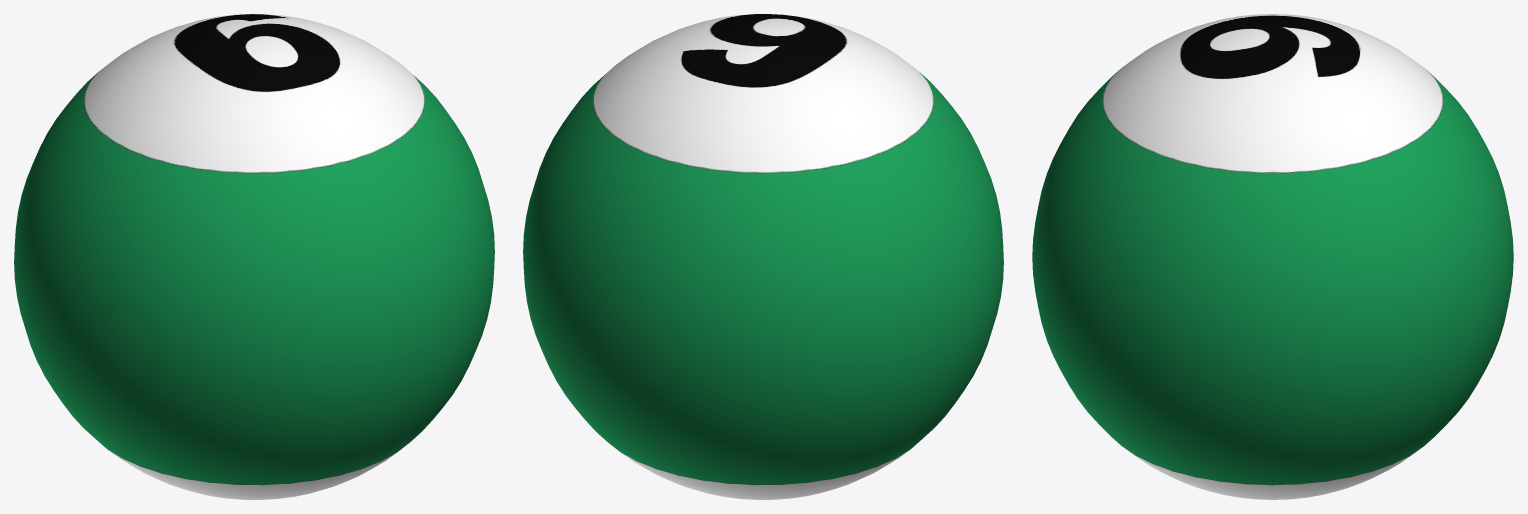
3 views of the same model, side by side, from view 1: azimuth 30°, elevation 25°; view 2: azimuth 150°, elevation 25°; view 3: azimuth 270°, elevation 25° (orthographic).
Parts seen in each view (by area): view 1: 6-six; view 2: 6-six; view 3: 6-six.
Boxes of the visible parts, x1=… form: 6-six: x1=14, y1=14, x2=494, y2=499; 6-six: x1=523, y1=14, x2=1003, y2=499; 6-six: x1=1032, y1=14, x2=1513, y2=499.
Bounding box in the file's own units: 0.5015 × 0.5088 × 0.5015.
Materials: 1 (1 with a texture image).
